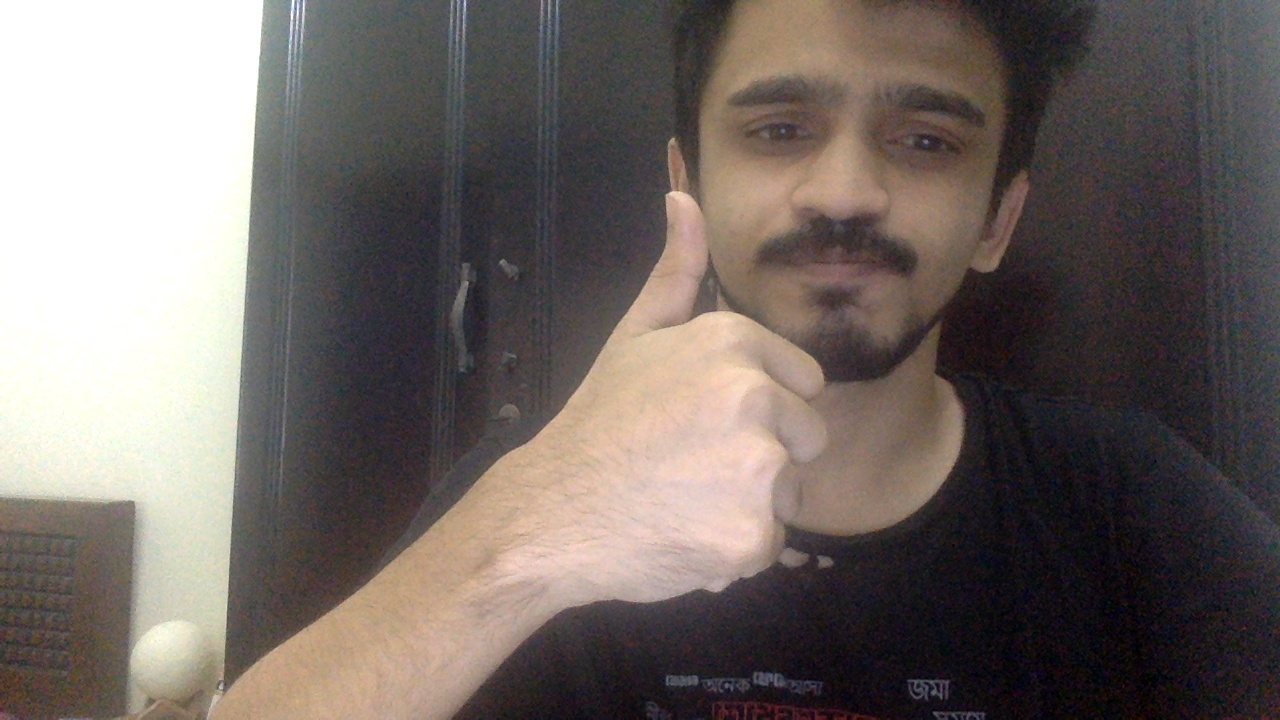good: (539, 195, 835, 598)
